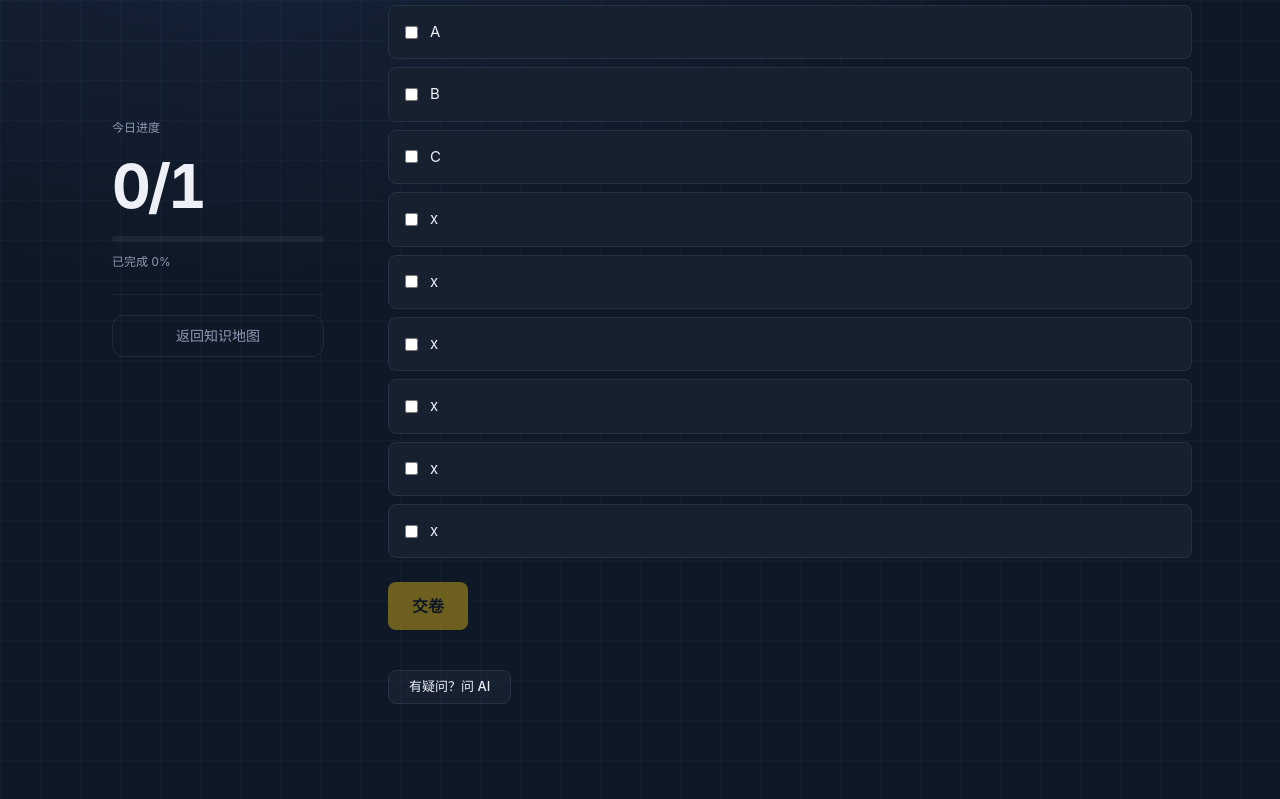
Test case: 流式增量渲染：先到的片段先上屏，不必等整段回答完
The image size is (1280, 799).
(page scrolled)
Click the button "有疑问？问 AI": (450, 687) [388,670,511,704]
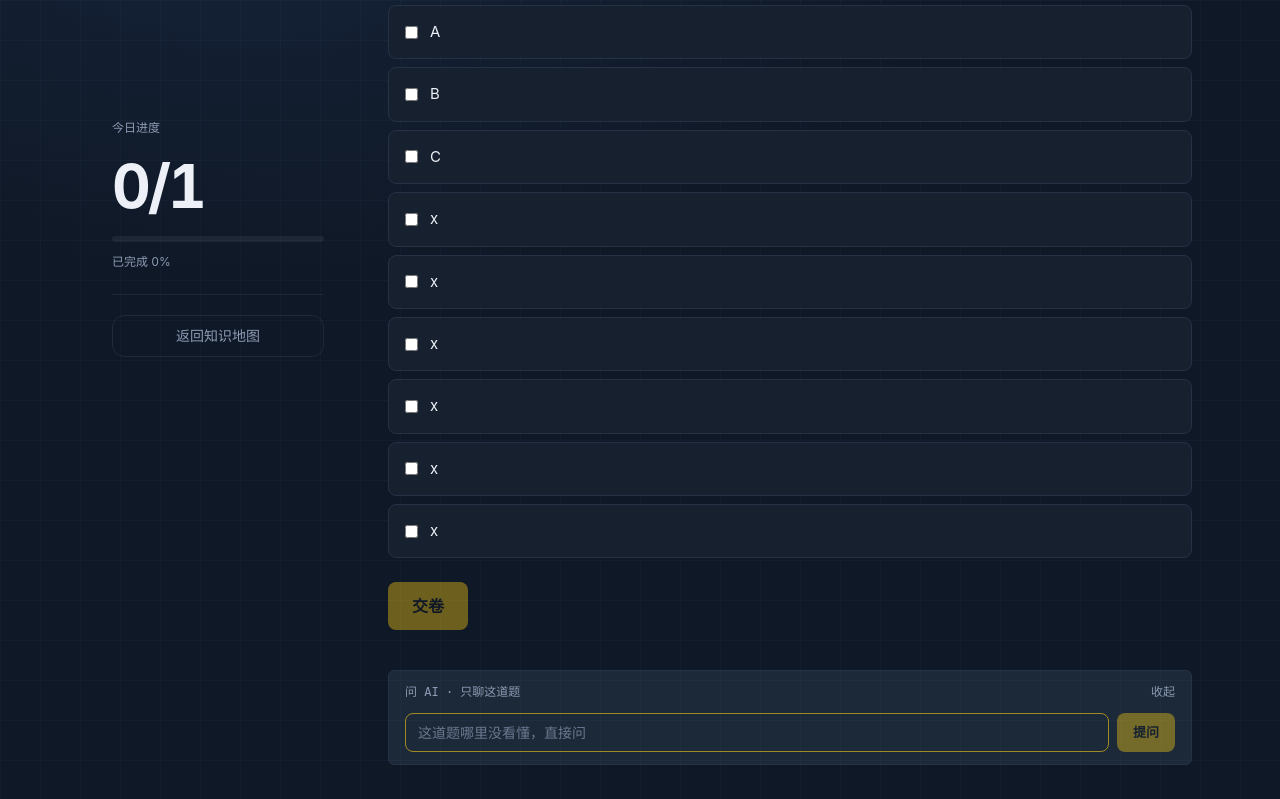
In the field named "向 AI 提问": (757, 733) [405,713,1109,752], type "流式问题"
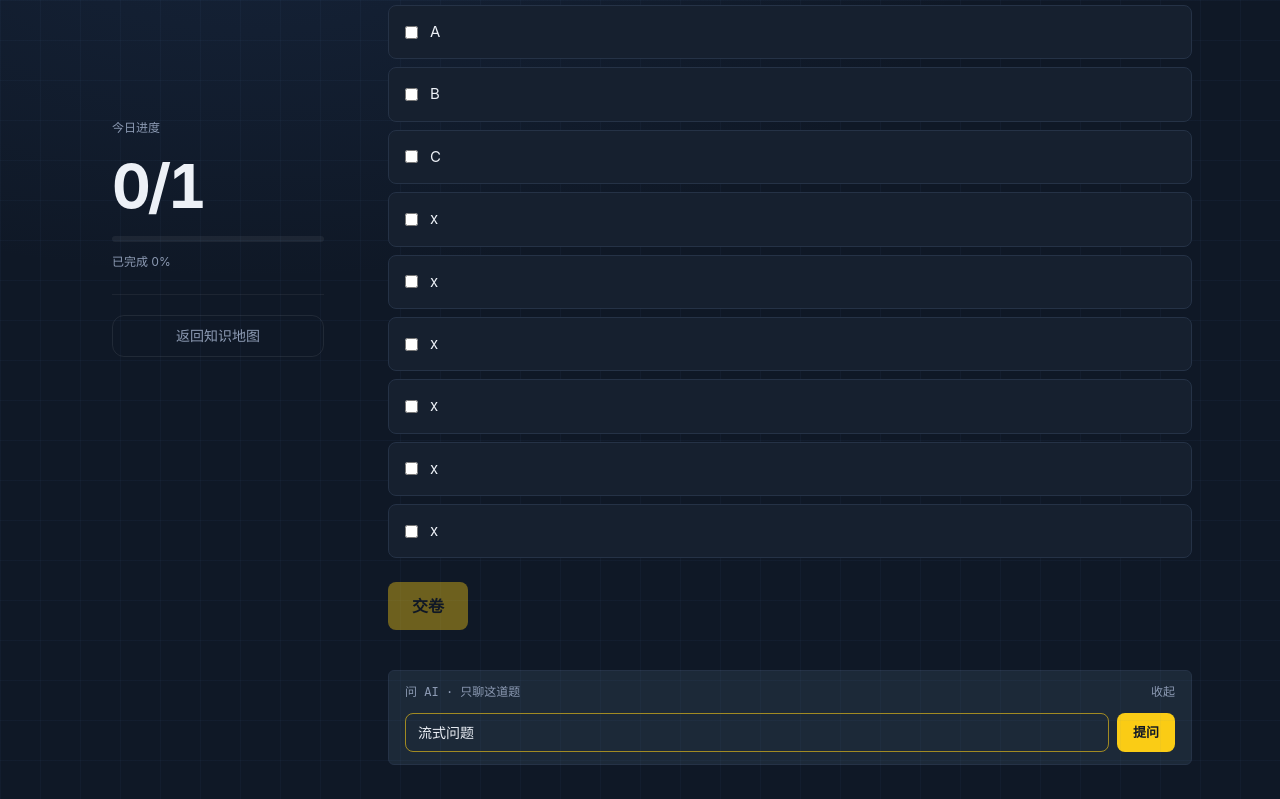
Click the button "提问": (1146, 733) [1117,713,1175,752]
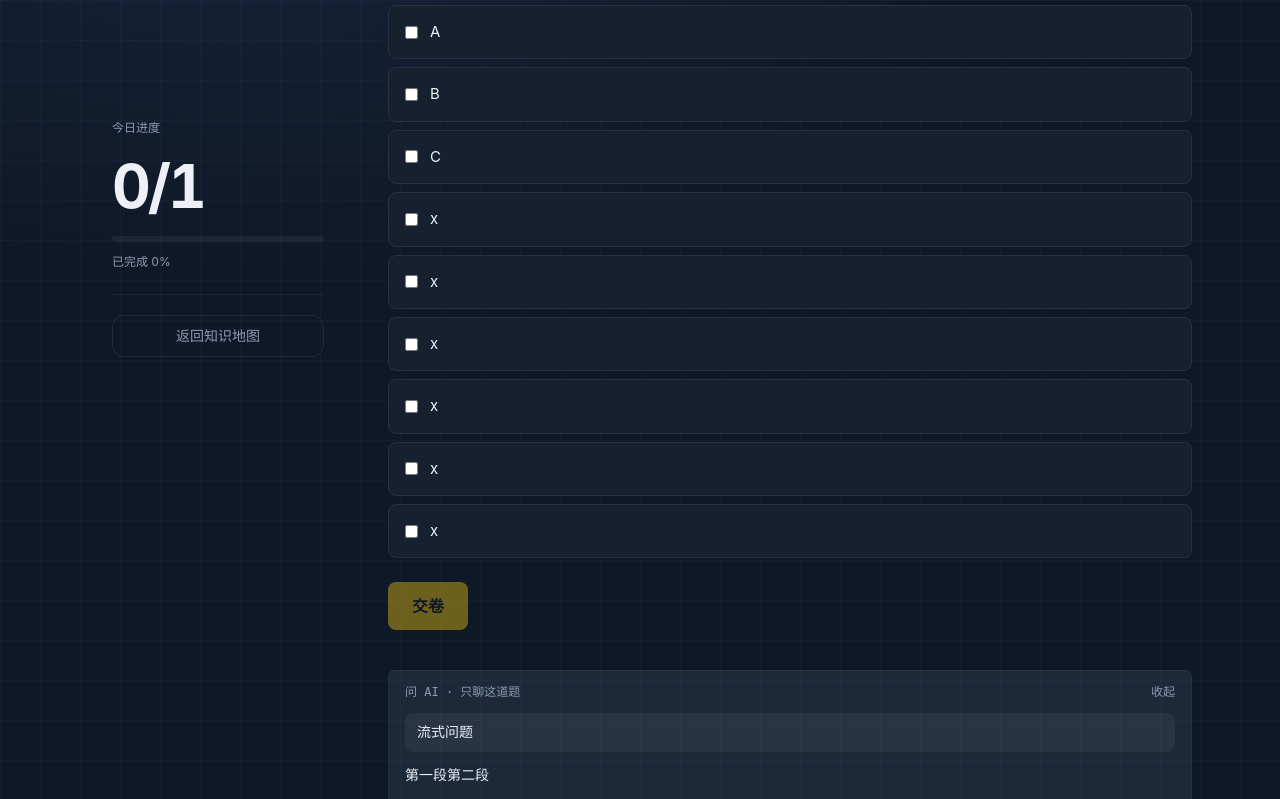
Now the text "第一段第二段" is shown, box [405,766,489,783]
